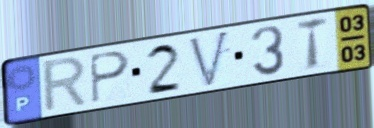2: (143, 41, 183, 95)
3: (249, 24, 287, 78)
P: (87, 49, 133, 107)
R: (41, 54, 91, 116)
T: (295, 14, 330, 72)
V: (186, 28, 232, 91)
